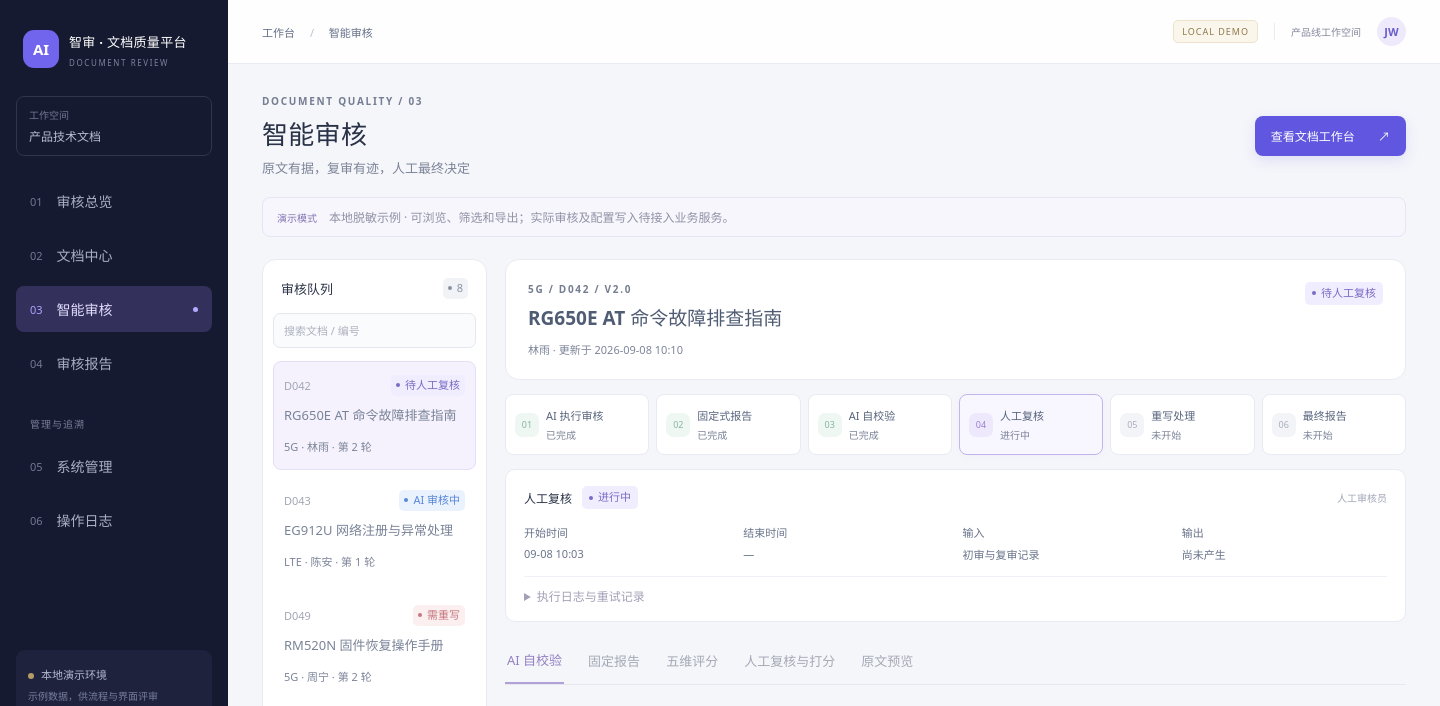
local demonstration user journeys › preserves pending human scoring and resets selected node on task change
The width and height of the screenshot is (1440, 706).
Click the tab "原文预览".
click(887, 662)  # box [859,640,915,684]
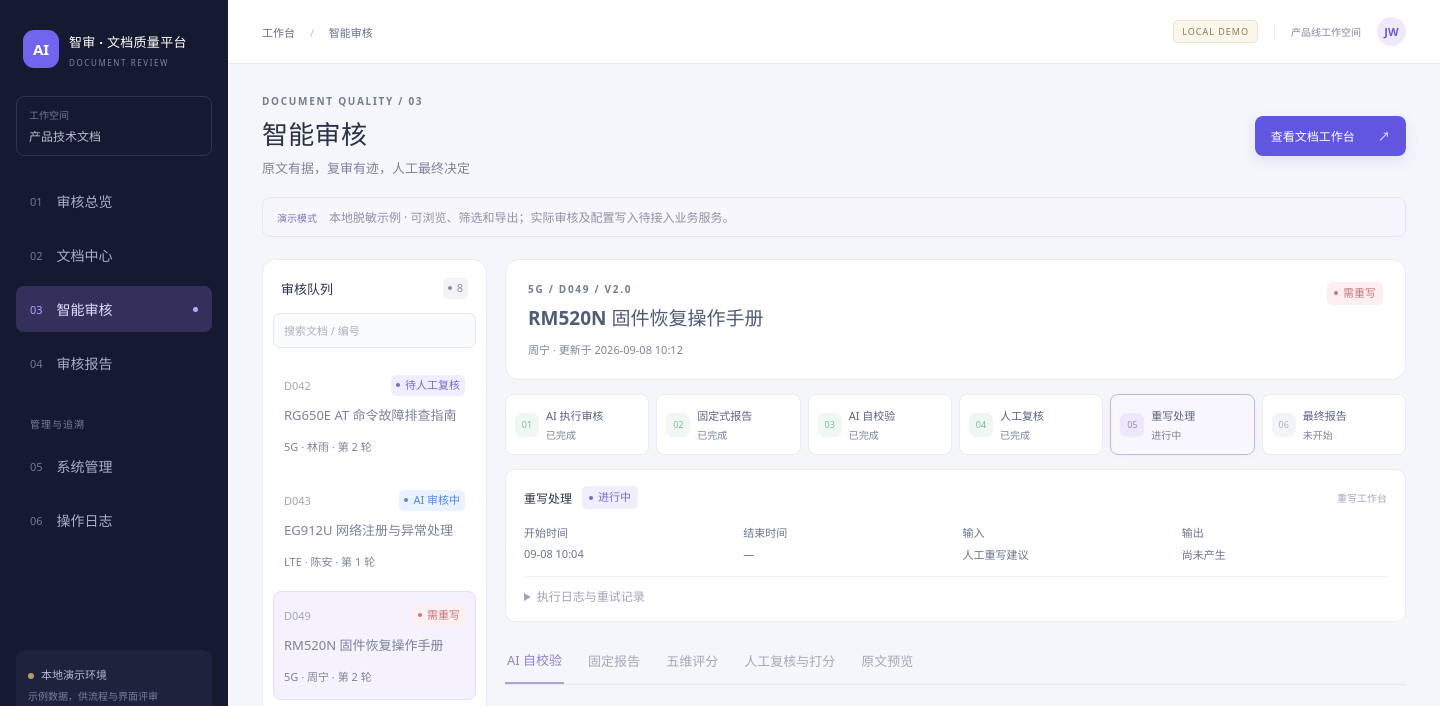
Expected: the heading "RM520N 固件恢复操作手册" is shown, [528,304,764,333]
